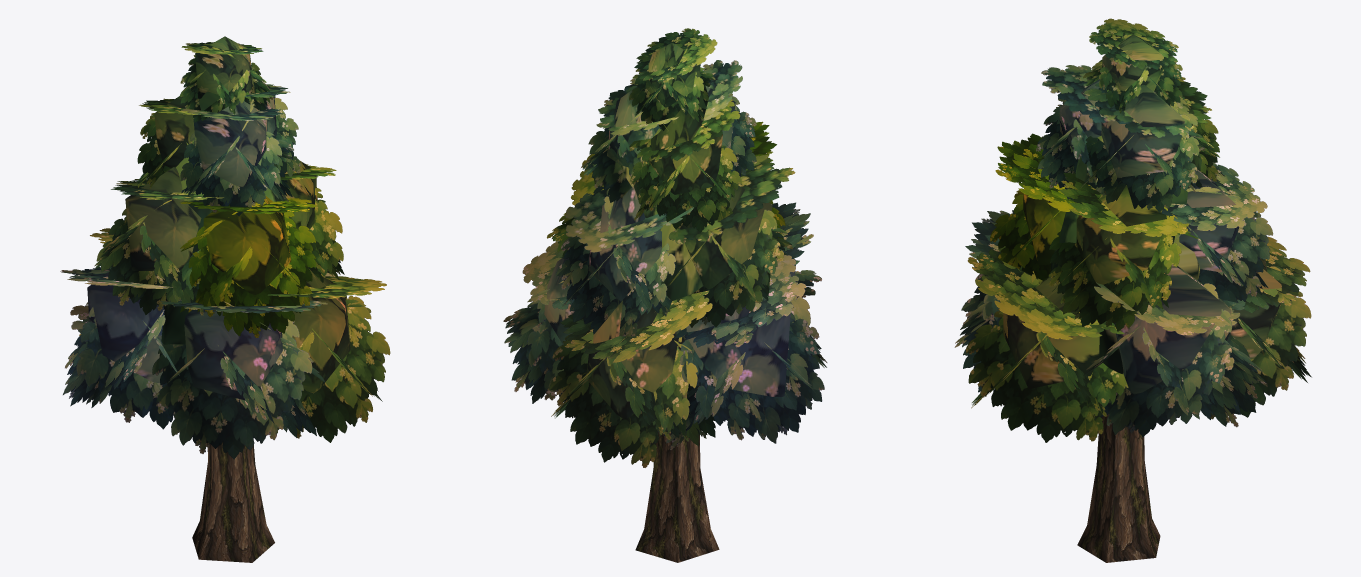
The model's file is tree_linden_lod1.glb.
3 views of the same model, side by side, from view 1: azimuth 30°, elevation 25°; view 2: azimuth 150°, elevation 25°; view 3: azimuth 270°, elevation 25° (orthographic).
Parts seen in each view (by area): view 1: tree_linden_lod1; view 2: tree_linden_lod1; view 3: tree_linden_lod1.
Part boxes in pixels (x1,y1,x2,y2): tree_linden_lod1: (60, 36, 390, 562); tree_linden_lod1: (503, 28, 827, 562); tree_linden_lod1: (954, 18, 1311, 562).
Bounding box in the file's own units: 4.6 × 6.47 × 5.03.
2 materials, 2 textured.
